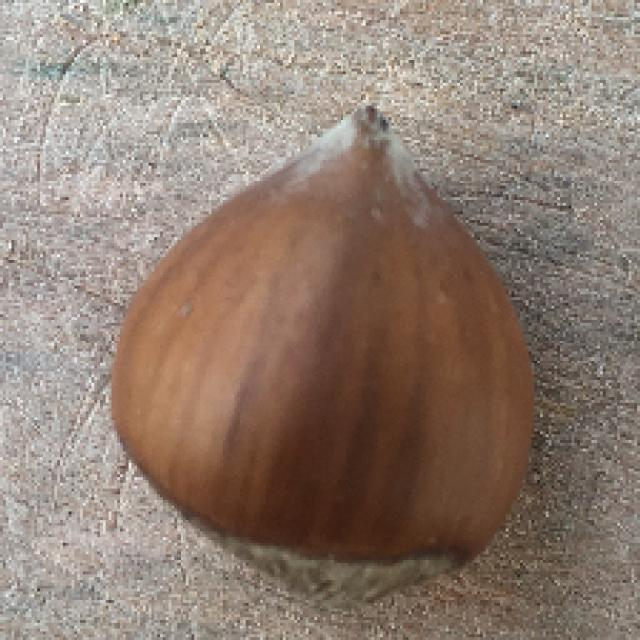damagedHazelnut: (110, 103, 532, 586)
